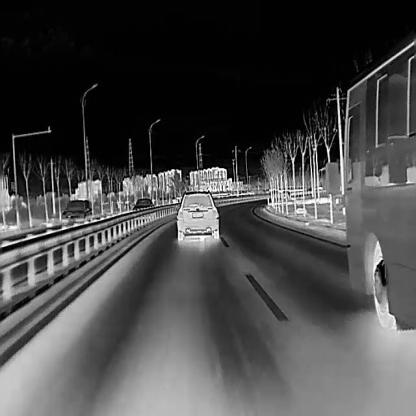bus: (323, 39, 415, 333)
car: (174, 189, 220, 242), (60, 198, 93, 232), (131, 197, 154, 217)
